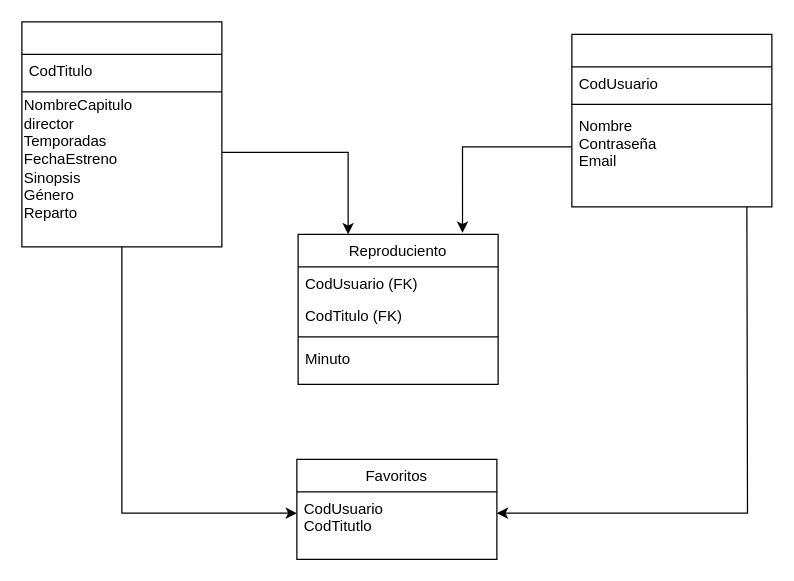
Some shapes in this 794 by 581 pixel diagram are drawn without their labels. The shapes that lost their labels are listed below. From the top down, each one's box as (x1, y1, x2, y2) in pixels, then its label:
(21, 21, 222, 247): TItulos
(571, 33, 772, 207): Usuarios
